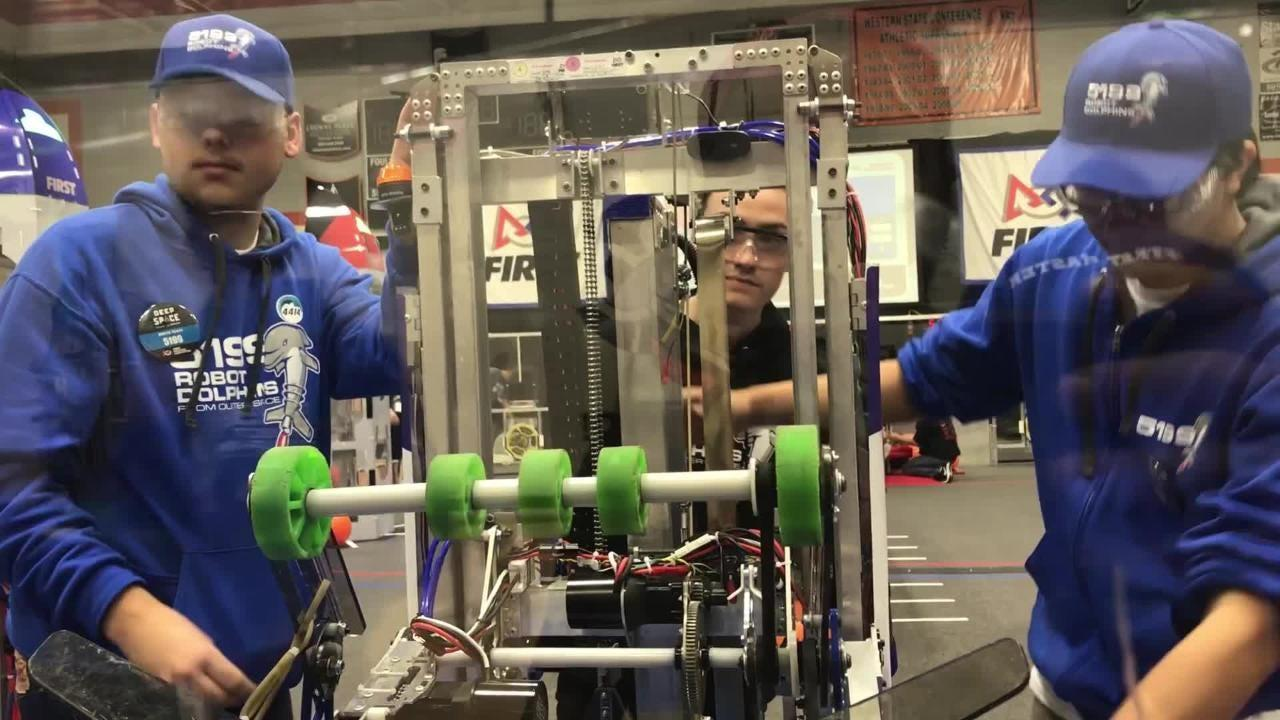robot: (240, 40, 913, 720)
